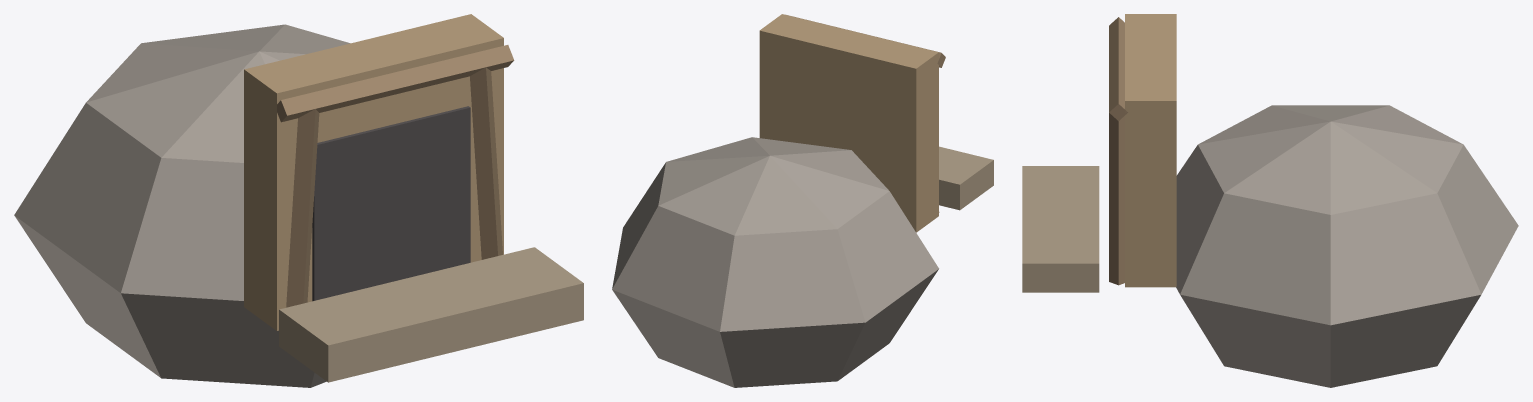
The picture shows the model from 3 angles, left to right: view 1: azimuth 30°, elevation 25°; view 2: azimuth 150°, elevation 25°; view 3: azimuth 270°, elevation 25°; orthographic projection. The views are drawn at different scales.
Visible parts, largest first — view 1: body; view 2: body; view 3: body.
Part boxes in pixels (left/top/right/bottom): body: left=14, top=14, right=583, bottom=387; body: left=612, top=14, right=993, bottom=387; body: left=1022, top=14, right=1518, bottom=387.
Bounding box in the file's own units: 5.7 × 5.3 × 7.72.
